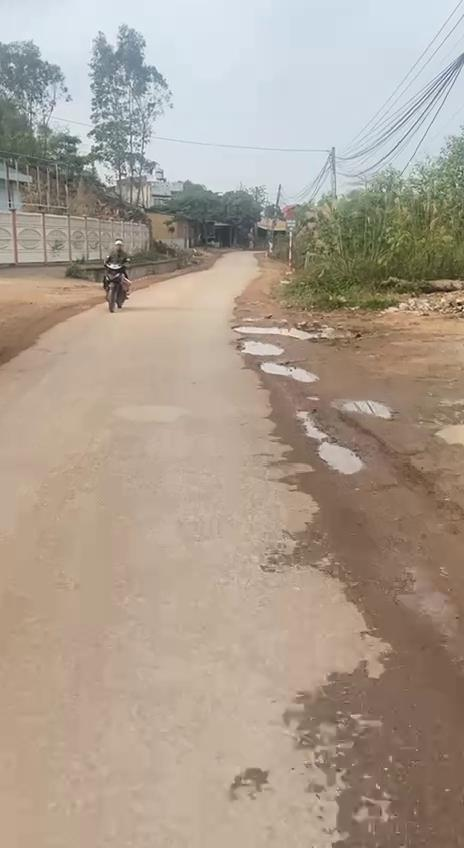pothole: (288, 402, 365, 482), (255, 357, 325, 389), (231, 320, 312, 341), (236, 332, 282, 358)
